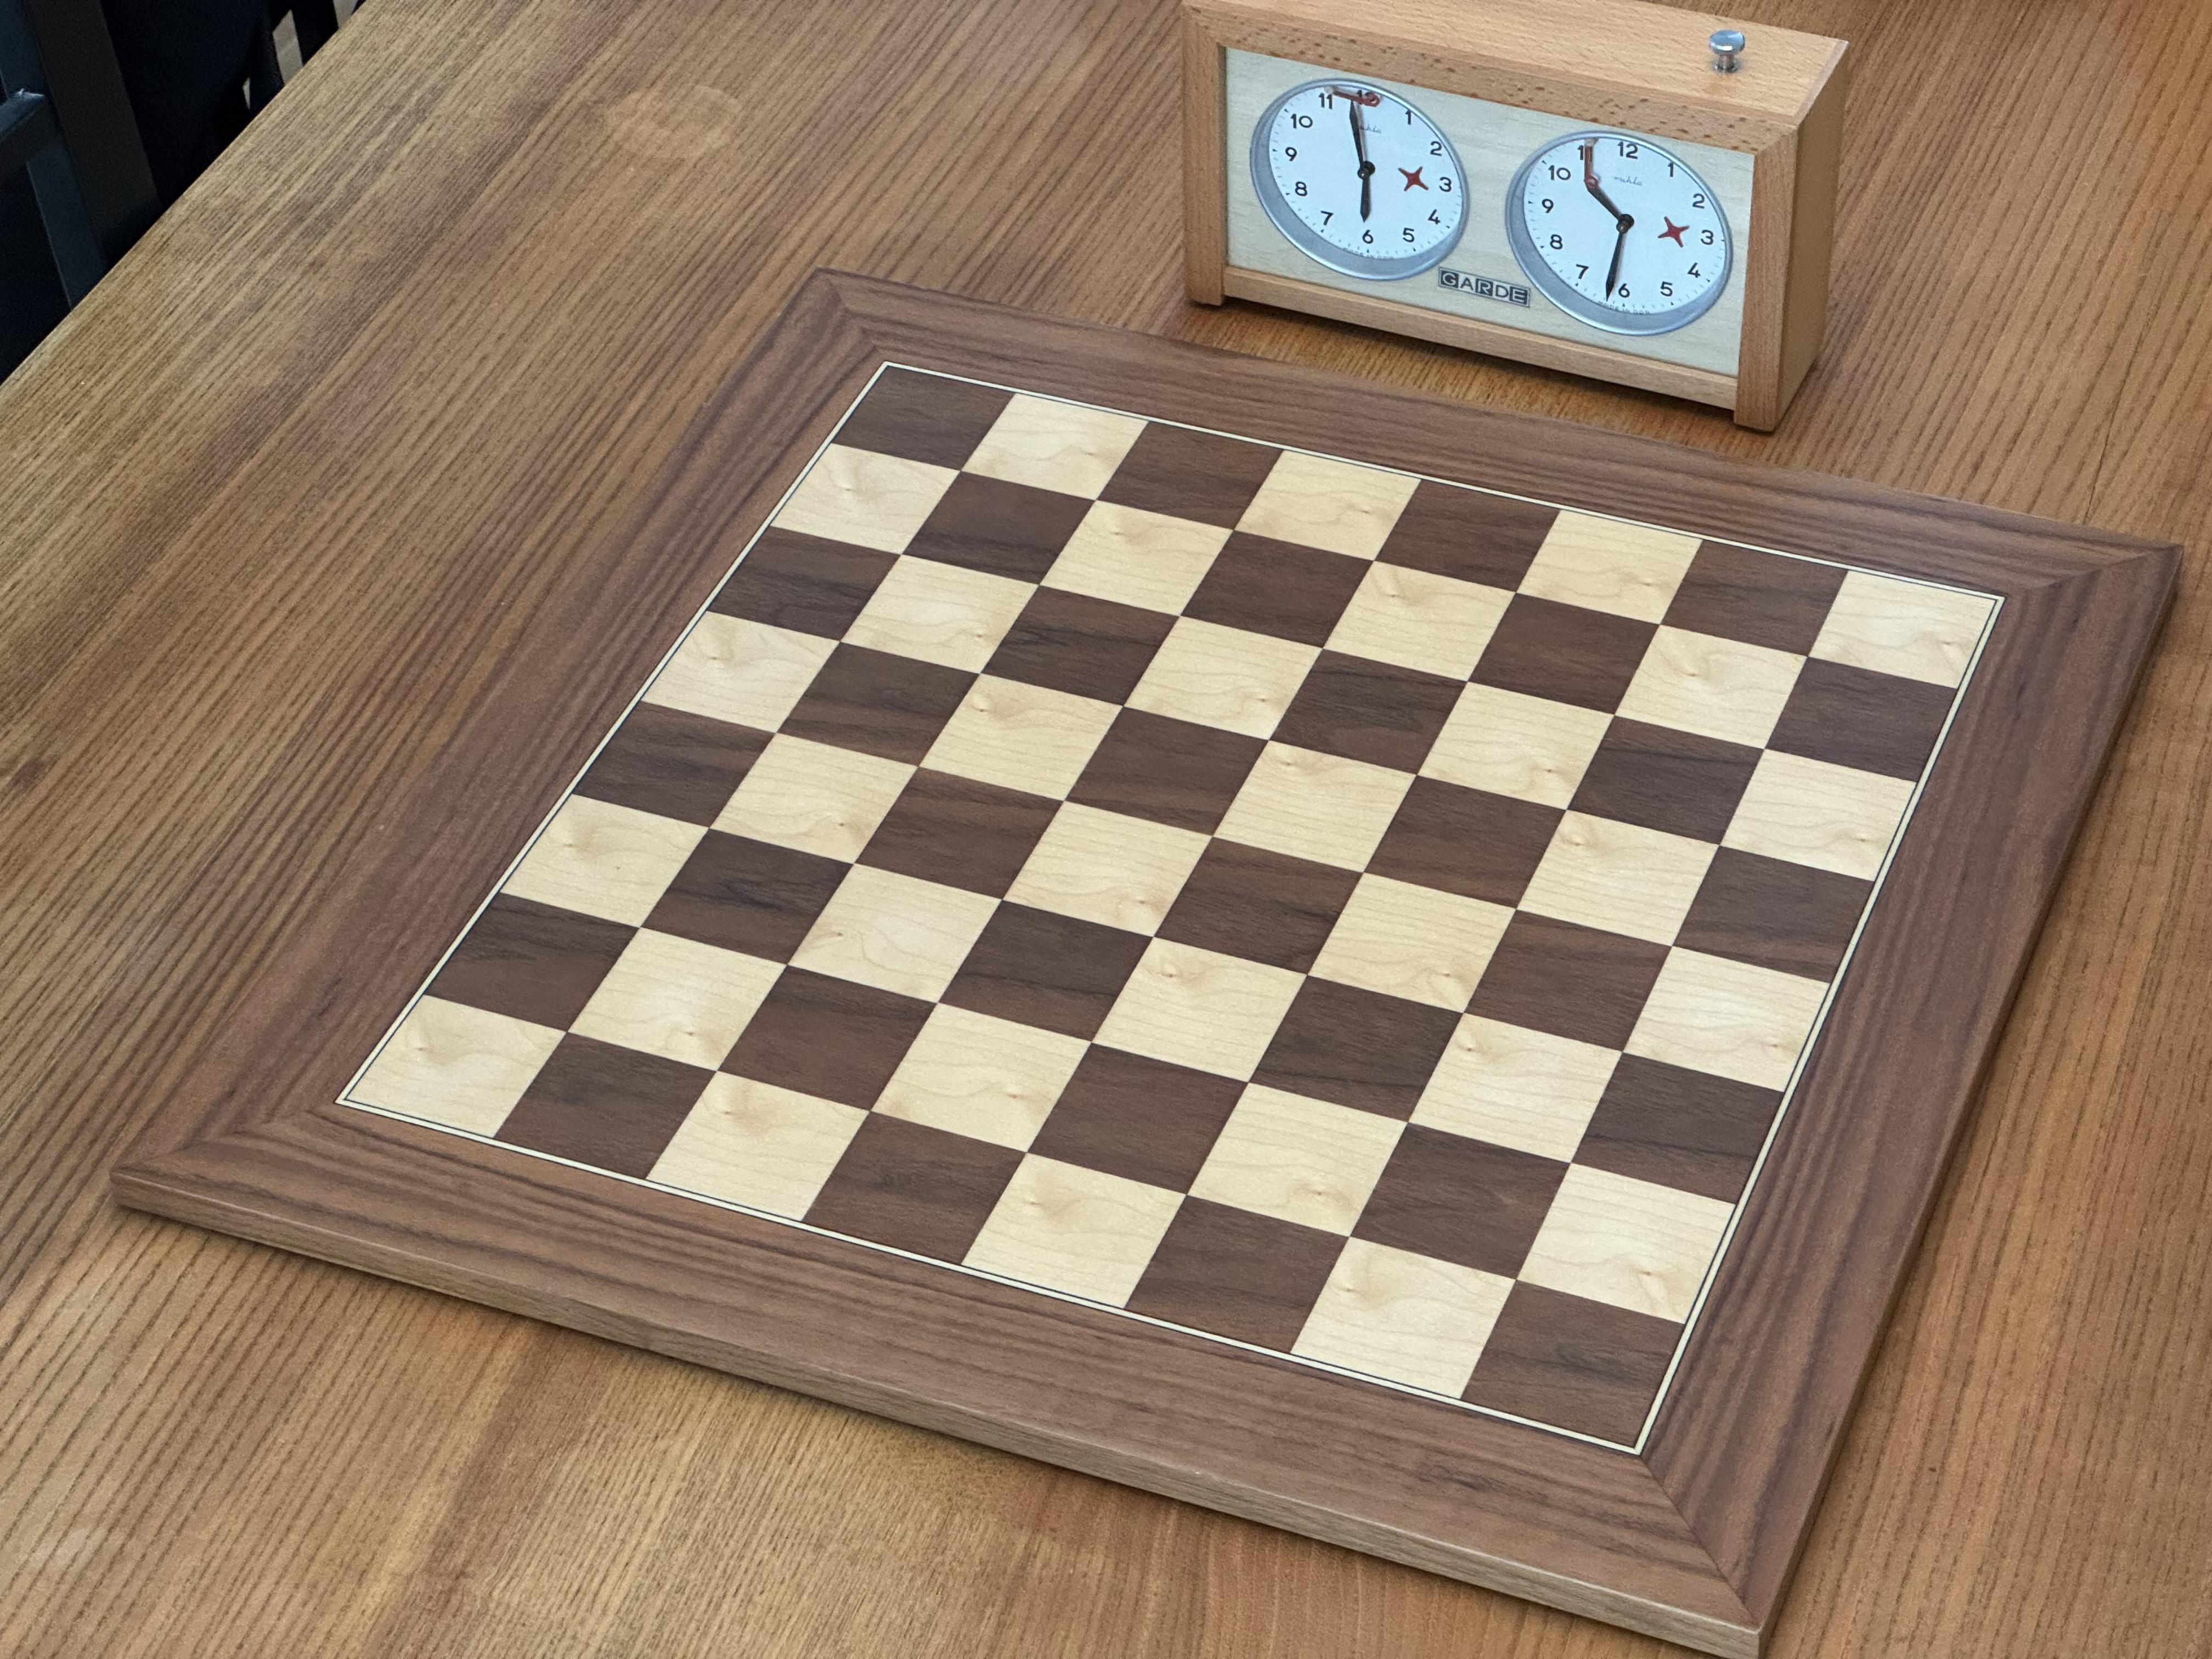corner A: (254, 1011, 423, 1178)
corner B: (1543, 1361, 1731, 1546)
corner C: (1916, 519, 2080, 688)
